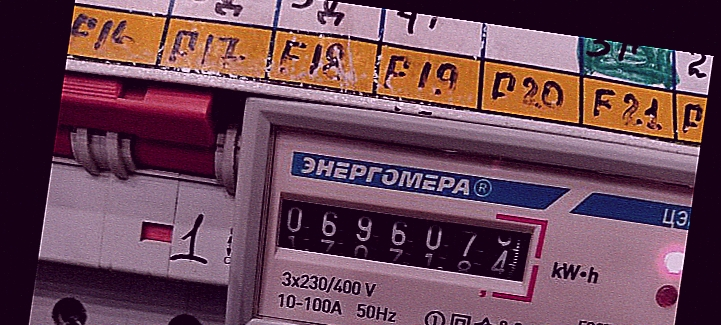0: (280, 203, 305, 235), (421, 222, 444, 253)
4: (485, 246, 508, 278)
6: (385, 217, 409, 250), (316, 208, 339, 239)
7: (456, 226, 478, 259)
9: (351, 213, 375, 244)
screen: (257, 174, 551, 306)
